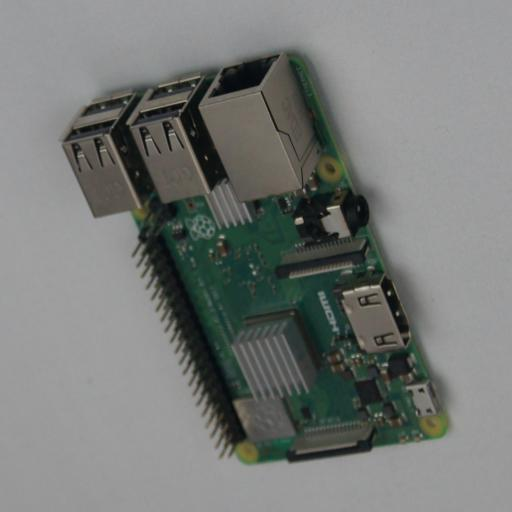Raspberry Pi 3 B-: (62, 49, 448, 463)
